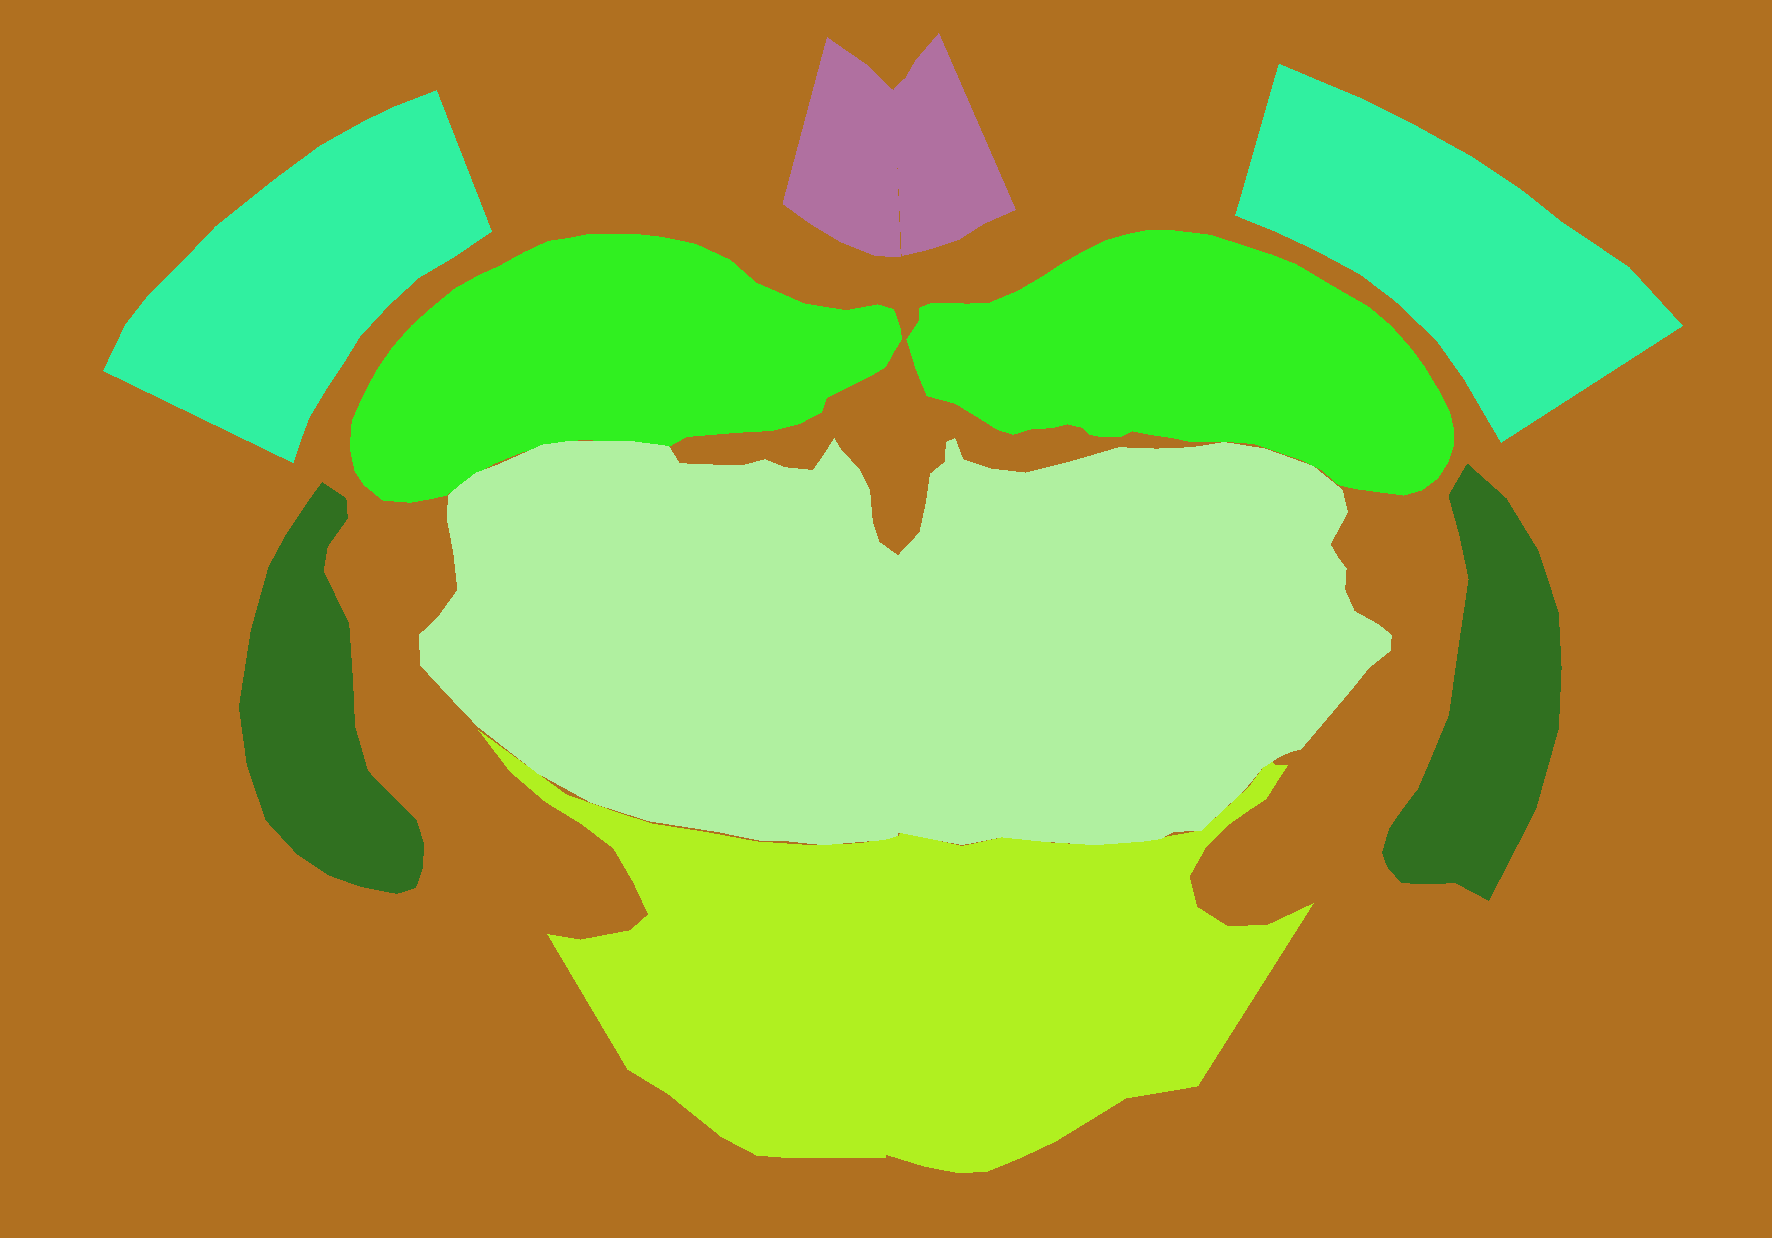Cerebral nuclei: (1382, 463, 1562, 901), (238, 482, 424, 894)
Hippocampal formation: (350, 234, 902, 502), (906, 230, 1453, 496)
Hypothalamus: (478, 730, 899, 1159), (886, 758, 1314, 1173)
Retrosplenial area: (894, 32, 1017, 256), (782, 36, 899, 257)
Somatosensory area: (1235, 65, 1683, 443), (102, 90, 491, 463)
Thalamus: (895, 438, 1392, 845), (419, 438, 899, 845)
